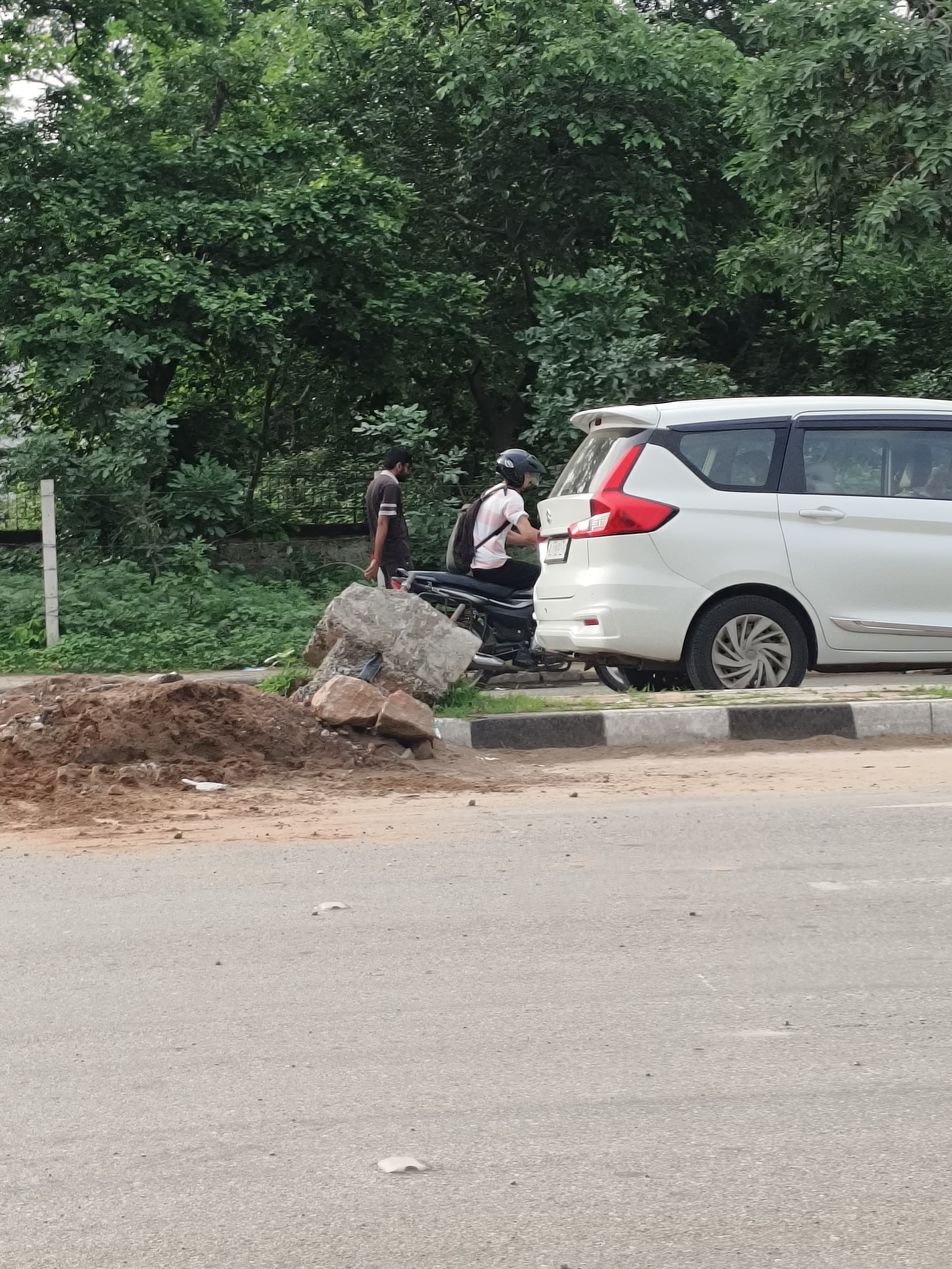BikeWithRider: (351, 423, 675, 701)
Helmet: (487, 445, 549, 500)
